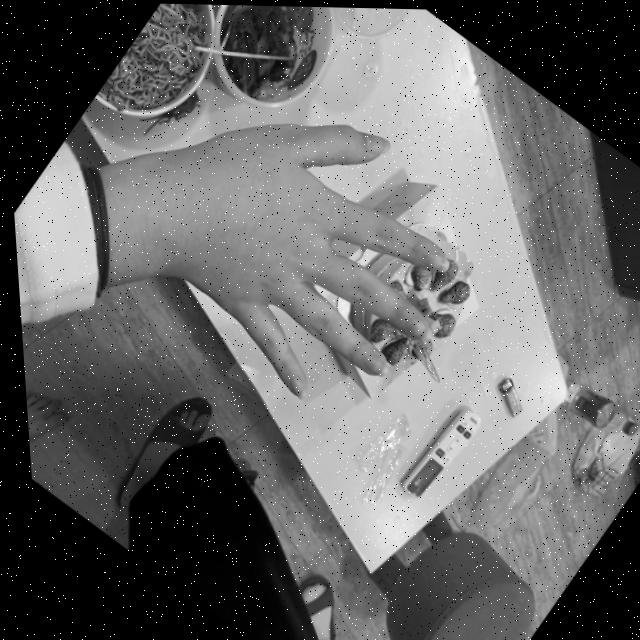hand: (116, 56, 517, 445)
